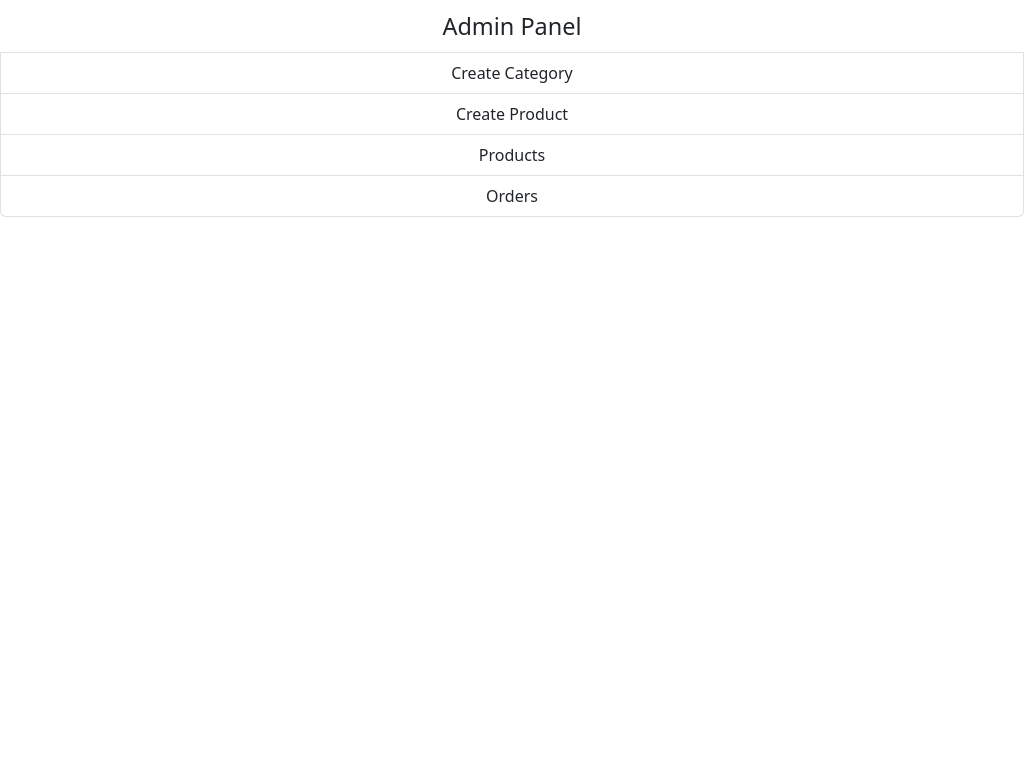
Test: AdminMenu Integration Tests › navigates to Create Category page from AdminMenu
Click the link "Create Category" at point(512, 73), box left=0, top=52, right=1023, bottom=94
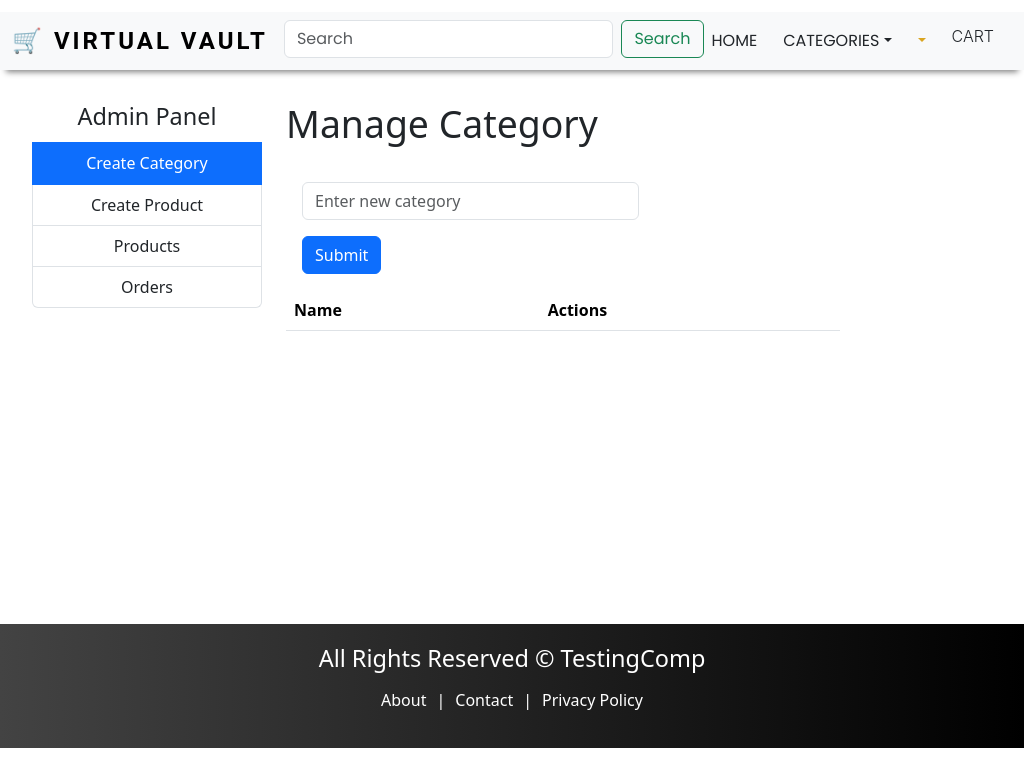
Result: the heading "Manage Category" is shown at left=286, top=98, right=598, bottom=149
